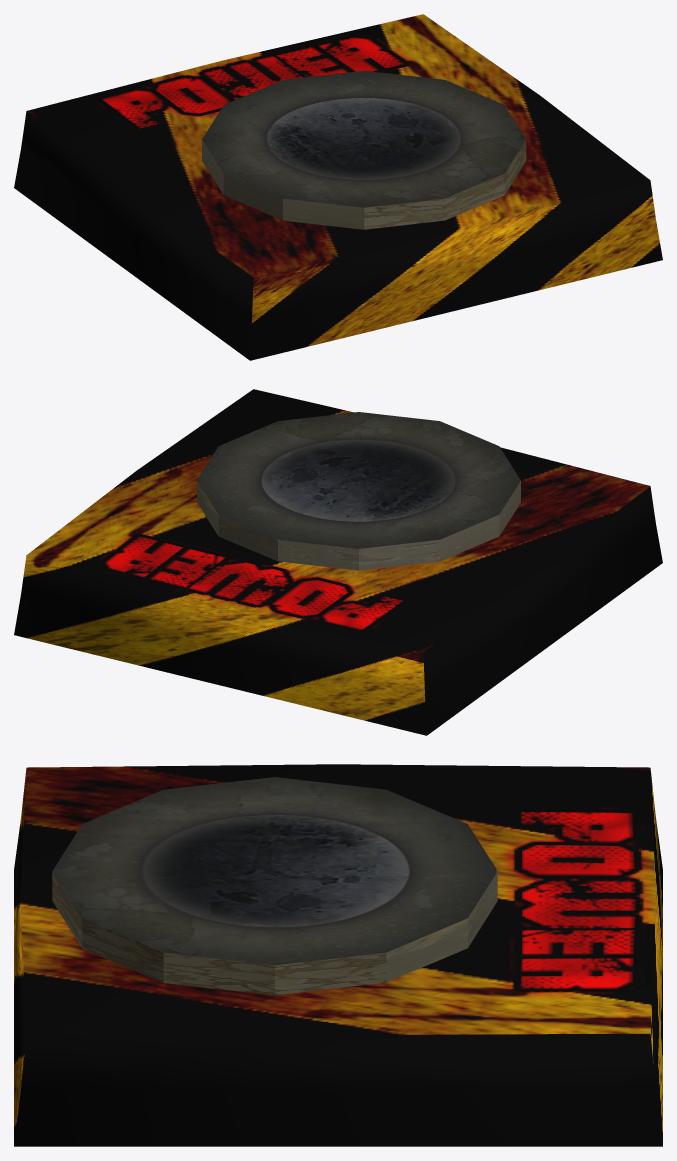
Rendered from power_button.fbx.
The picture shows the model from 3 angles, top to bottom: view 1: azimuth 30°, elevation 25°; view 2: azimuth 150°, elevation 25°; view 3: azimuth 270°, elevation 25°; orthographic projection. The views are drawn at different scales.
Parts seen in each view (by area): view 1: pCube1, pCylinder1; view 2: pCube1, pCylinder1; view 3: pCube1, pCylinder1.
Boxes of the visible parts, box(x1,y1,x2,y2) form: pCube1: box(14, 14, 662, 360); pCylinder1: box(202, 70, 526, 229); pCube1: box(14, 389, 662, 735); pCylinder1: box(197, 412, 520, 570); pCube1: box(14, 764, 662, 1146); pCylinder1: box(52, 777, 497, 995).
Bounding box in the file's own units: 3.54 × 0.8287 × 3.51.
